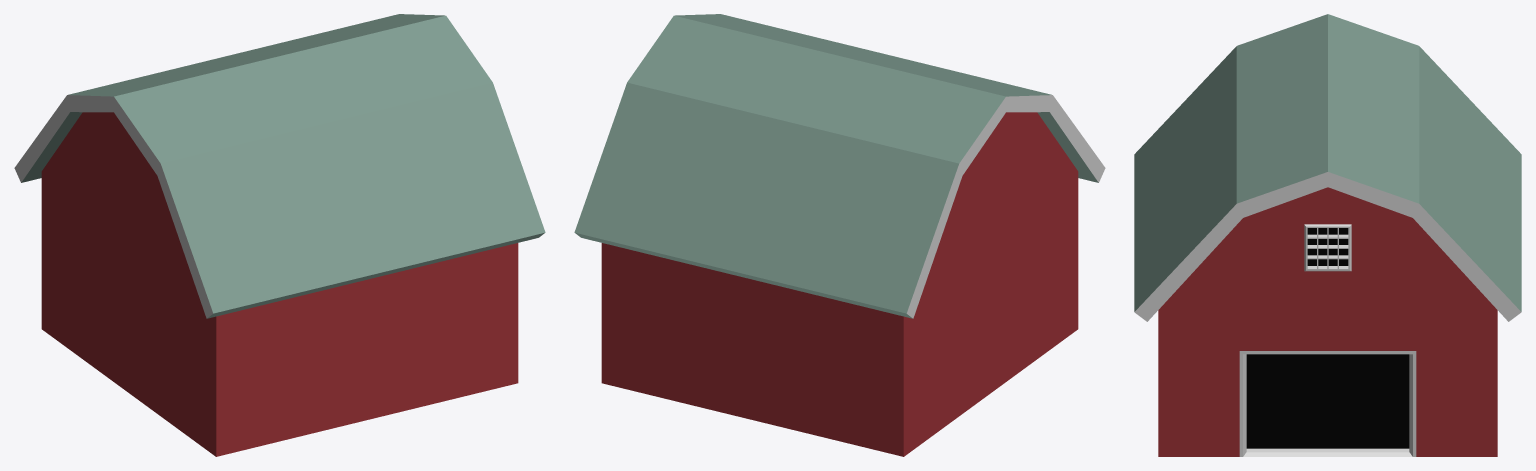
File: barn.fbx
The picture shows the model from 3 angles, left to right: view 1: azimuth 30°, elevation 25°; view 2: azimuth 150°, elevation 25°; view 3: azimuth 270°, elevation 25°; orthographic projection. The views are drawn at different scales.
Visible parts, largest first — view 1: Roof, Barn_Body; view 2: Roof, Barn_Body; view 3: Barn_Body, Roof.
Boxes of the visible parts, left/top/right/bottom form: Roof: left=14, top=14, right=545, bottom=318; Barn_Body: left=41, top=112, right=518, bottom=456; Roof: left=574, top=14, right=1105, bottom=318; Barn_Body: left=601, top=112, right=1078, bottom=456; Barn_Body: left=1158, top=187, right=1497, bottom=456; Roof: left=1134, top=14, right=1521, bottom=321.
Bounding box in the file's own units: 110 × 95 × 114.
